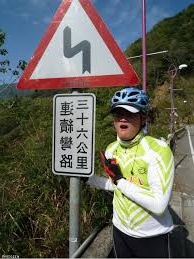Double_bend_left: (17, 1, 143, 88)
